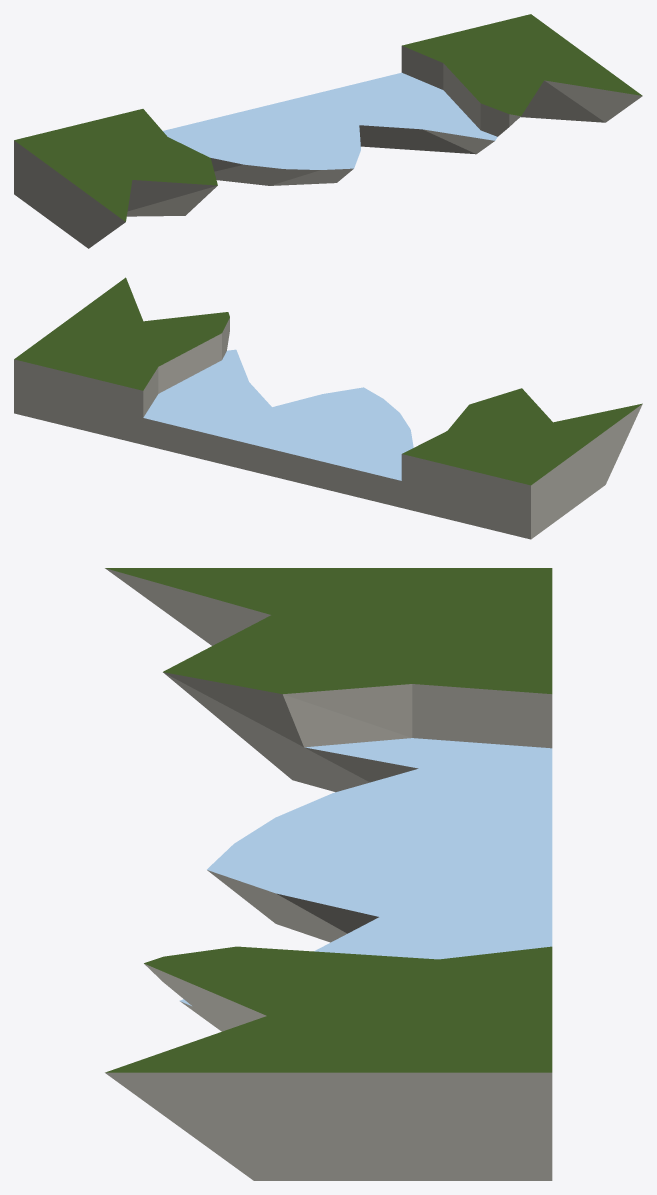
The model's file is Terrain_Modular_Tiles_Grass_Rock_Cliff_Edge_River_Outer_02.fbx.
The picture shows the model from 3 angles, top to bottom: view 1: azimuth 30°, elevation 25°; view 2: azimuth 150°, elevation 25°; view 3: azimuth 270°, elevation 25°; orthographic projection. The views are drawn at different scales.
Visible parts, largest first — view 1: Terrain_Modular_Tiles_Grass_Rock_Cliff_Edge_River_Outer_02; view 2: Terrain_Modular_Tiles_Grass_Rock_Cliff_Edge_River_Outer_02; view 3: Terrain_Modular_Tiles_Grass_Rock_Cliff_Edge_River_Outer_02.
Part boxes in pixels (bbox=[...]): Terrain_Modular_Tiles_Grass_Rock_Cliff_Edge_River_Outer_02: bbox=[14, 14, 642, 248]; Terrain_Modular_Tiles_Grass_Rock_Cliff_Edge_River_Outer_02: bbox=[14, 277, 642, 539]; Terrain_Modular_Tiles_Grass_Rock_Cliff_Edge_River_Outer_02: bbox=[105, 568, 552, 1180].
Size of the model in its own units: 3000 by 300 by 1125.
